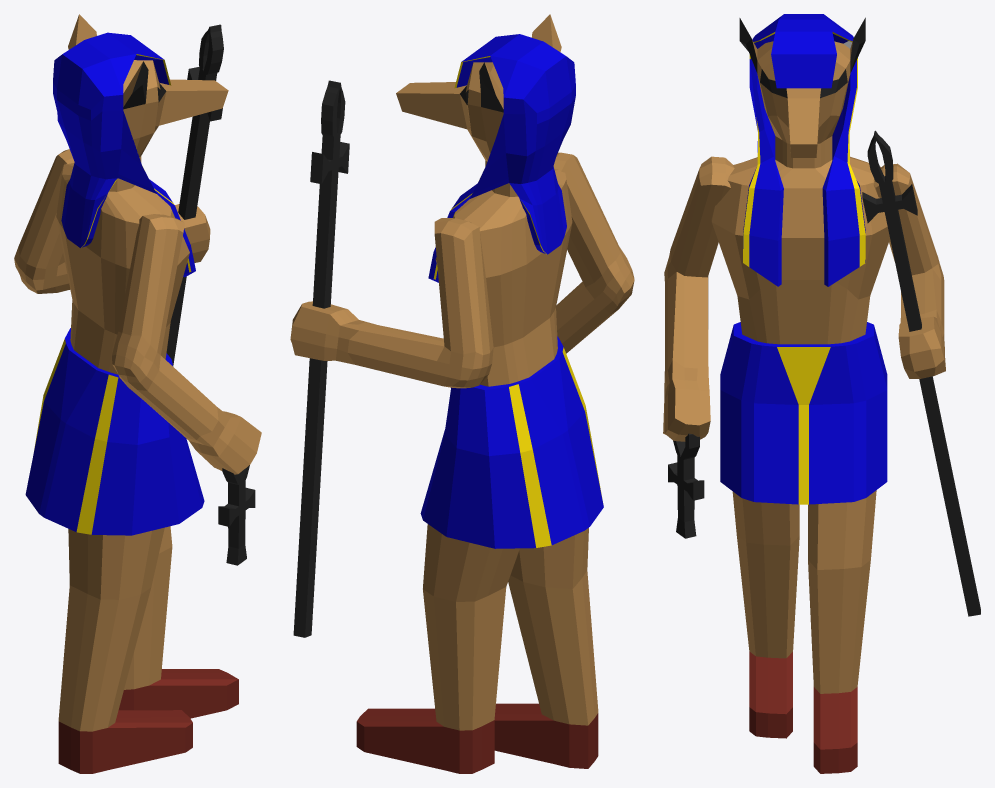
File: Anubis01.fbx
The picture shows the model from 3 angles, left to right: view 1: azimuth 30°, elevation 25°; view 2: azimuth 150°, elevation 25°; view 3: azimuth 270°, elevation 25°; orthographic projection. The views are drawn at different scales.
Parts seen in each view (by area): view 1: Anubis; view 2: Anubis; view 3: Anubis.
Boxes of the visible parts, x1=… form: Anubis: x1=14, y1=14, x2=261, y2=773; Anubis: x1=290, y1=14, x2=634, y2=773; Anubis: x1=663, y1=14, x2=980, y2=773.
Size of the model in its own units: 368 by 1115 by 465.
